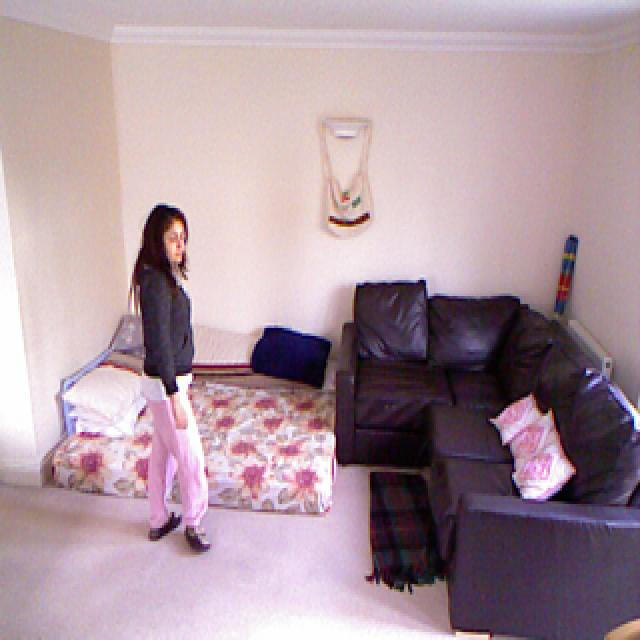standing: (130, 205, 214, 551)
